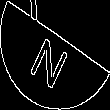N_NE: (31, 23, 79, 87)
